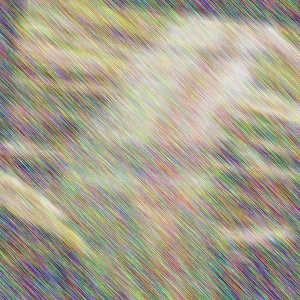Leaf_Blast: (92, 46, 212, 300)
